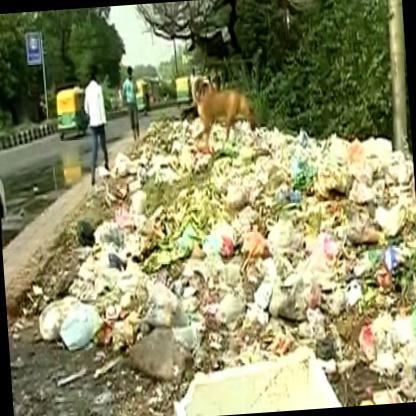Garbage: (203, 148, 344, 320), (213, 144, 326, 244), (288, 210, 388, 296), (213, 172, 314, 236), (356, 269, 415, 377), (249, 270, 322, 353), (339, 184, 401, 261), (72, 318, 138, 378), (300, 308, 363, 360), (138, 181, 182, 245), (29, 294, 88, 341), (233, 331, 281, 375), (107, 203, 147, 255), (15, 308, 60, 354), (52, 304, 96, 340), (102, 180, 136, 218), (68, 212, 96, 257), (348, 154, 386, 182), (225, 136, 250, 166), (402, 345, 415, 402)
